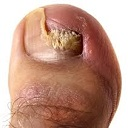Nail Fungal Infection: (40, 8, 91, 57)
